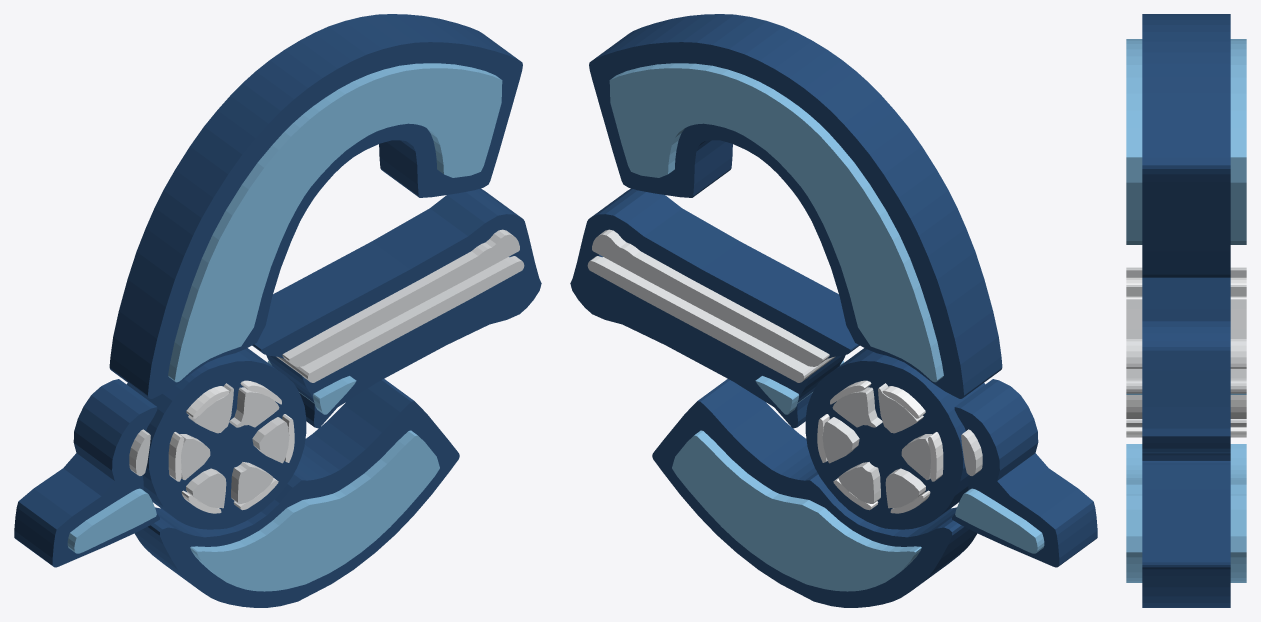
Rendered from hero.glb.
The picture shows the model from 3 angles, left to right: view 1: azimuth 30°, elevation 25°; view 2: azimuth 150°, elevation 25°; view 3: azimuth 270°, elevation 25°; orthographic projection. The views are drawn at different scales.
Visible parts, largest first — view 1: navy, blue, silver, white; view 2: navy, blue, silver, white; view 3: navy, blue, silver, white.
Boxes of the visible parts, left/top/right/bottom form: navy: left=14, top=14, right=541, bottom=607; blue: left=67, top=63, right=502, bottom=591; silver: left=129, top=229, right=524, bottom=508; white: left=168, top=380, right=294, bottom=513; navy: left=570, top=14, right=1097, bottom=607; blue: left=609, top=63, right=1044, bottom=591; silver: left=587, top=229, right=982, bottom=508; white: left=817, top=380, right=943, bottom=513; navy: left=1142, top=14, right=1230, bottom=607; blue: left=1126, top=39, right=1246, bottom=582; silver: left=1126, top=267, right=1246, bottom=427; white: left=1126, top=277, right=1246, bottom=437.
Bounding box in the file's own units: 0.6621 × 0.6883 × 0.122.
